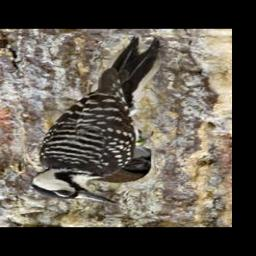Woodpecker: (29, 36, 165, 205)
